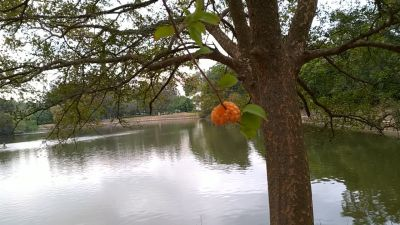eggs: (210, 101, 243, 127)
